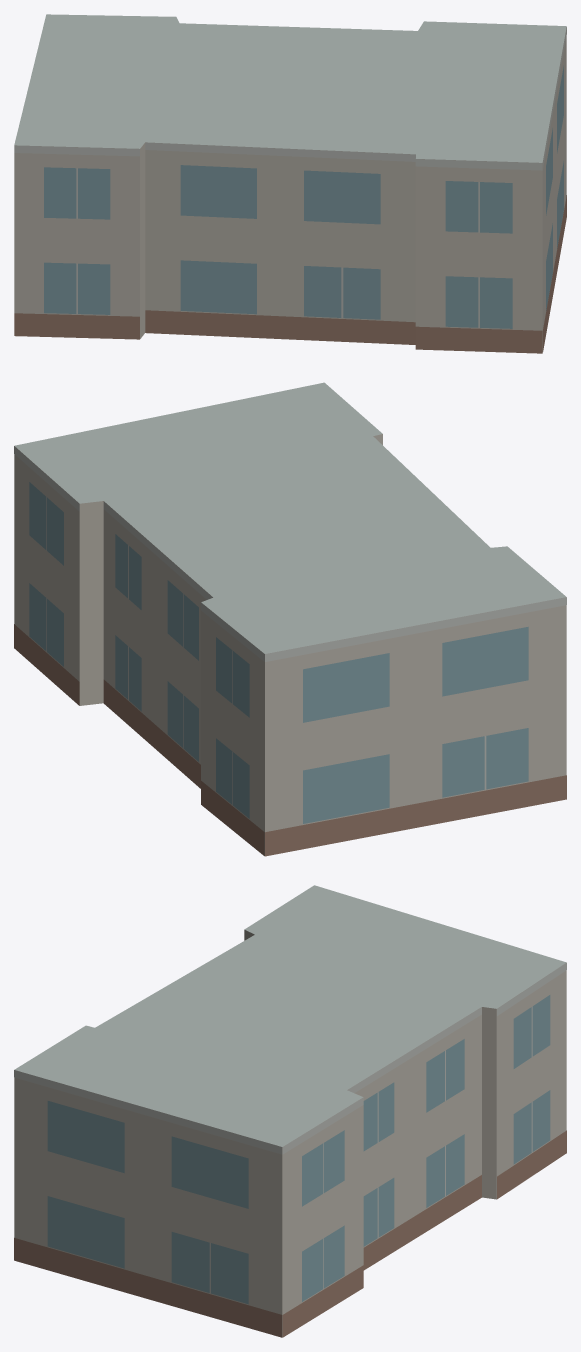
File: survey-upis-32660540.glb
The picture shows the model from 3 angles, top to bottom: view 1: azimuth 30°, elevation 25°; view 2: azimuth 150°, elevation 25°; view 3: azimuth 270°, elevation 25°; orthographic projection. The views are drawn at different scales.
Parts seen in each view (by area): view 1: survey-upis-32660540.tmp; view 2: survey-upis-32660540.tmp; view 3: survey-upis-32660540.tmp.
Part boxes in pixels (left/top/right/bottom): survey-upis-32660540.tmp: left=14, top=14, right=566, bottom=353; survey-upis-32660540.tmp: left=14, top=382, right=566, bottom=856; survey-upis-32660540.tmp: left=14, top=885, right=566, bottom=1337.
Size of the model in its own units: 17.98 by 6.1 by 16.03.
